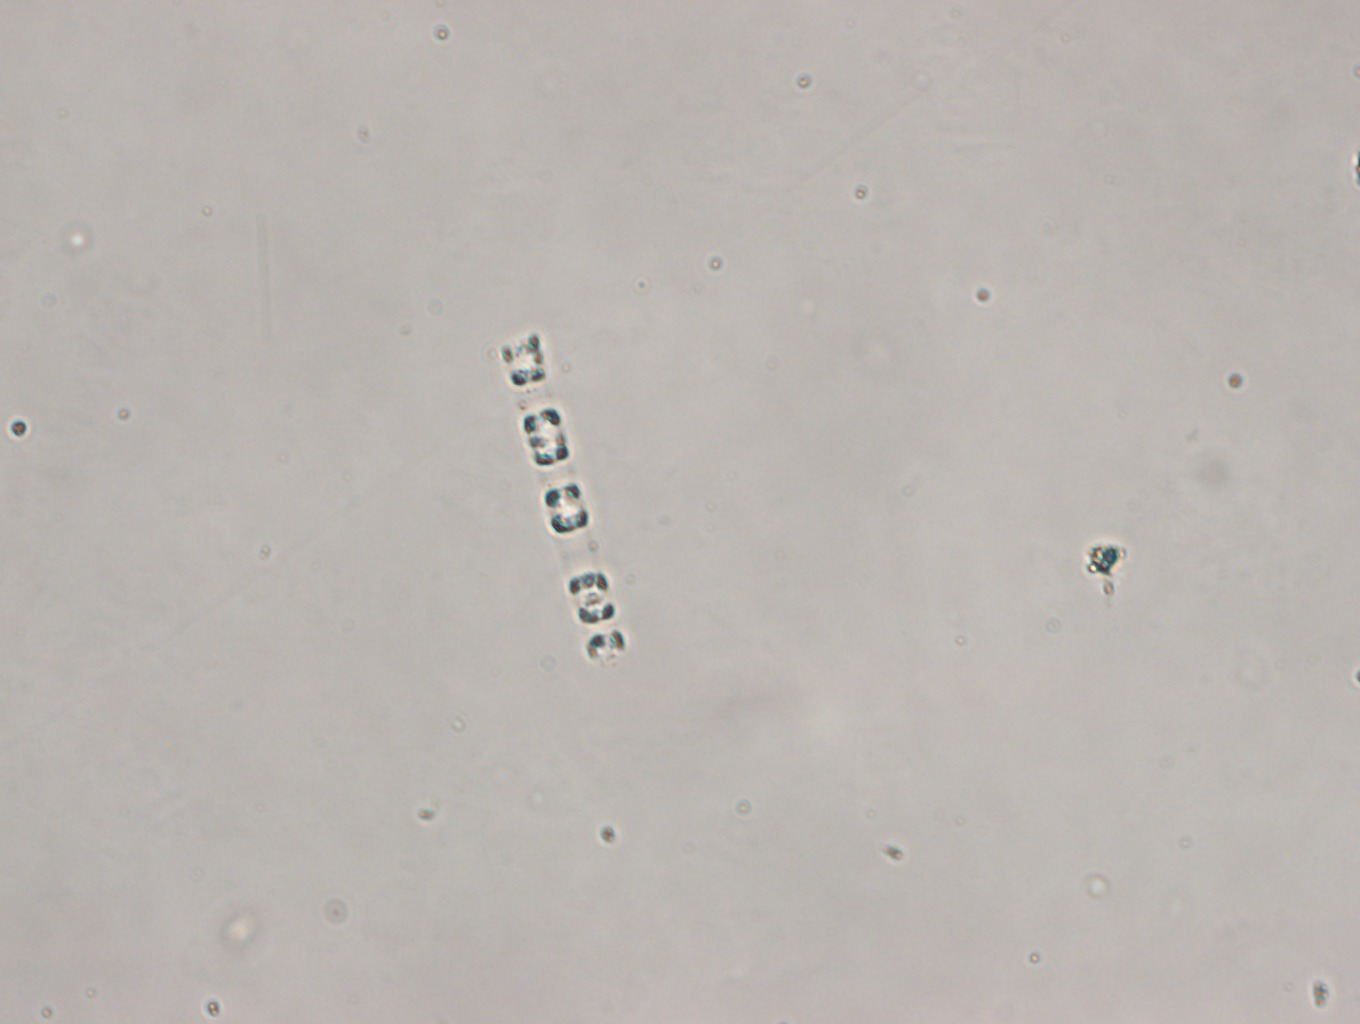skeletonema: (495, 329, 628, 664)
